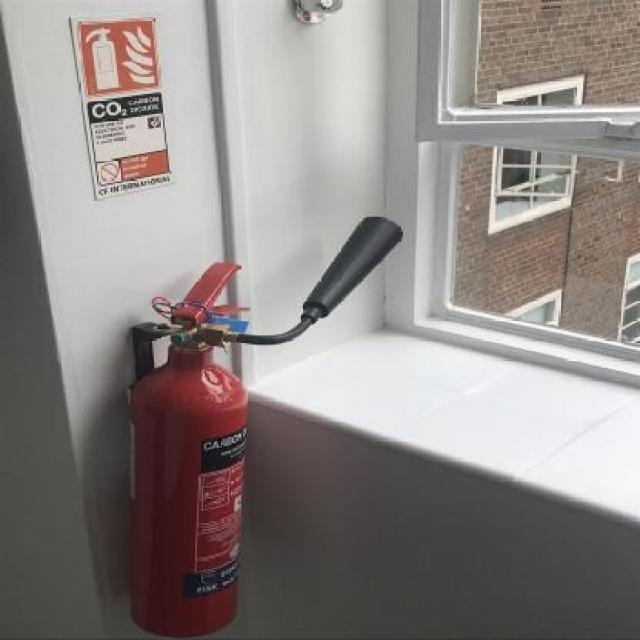fire extinguisher: (109, 212, 413, 640)
